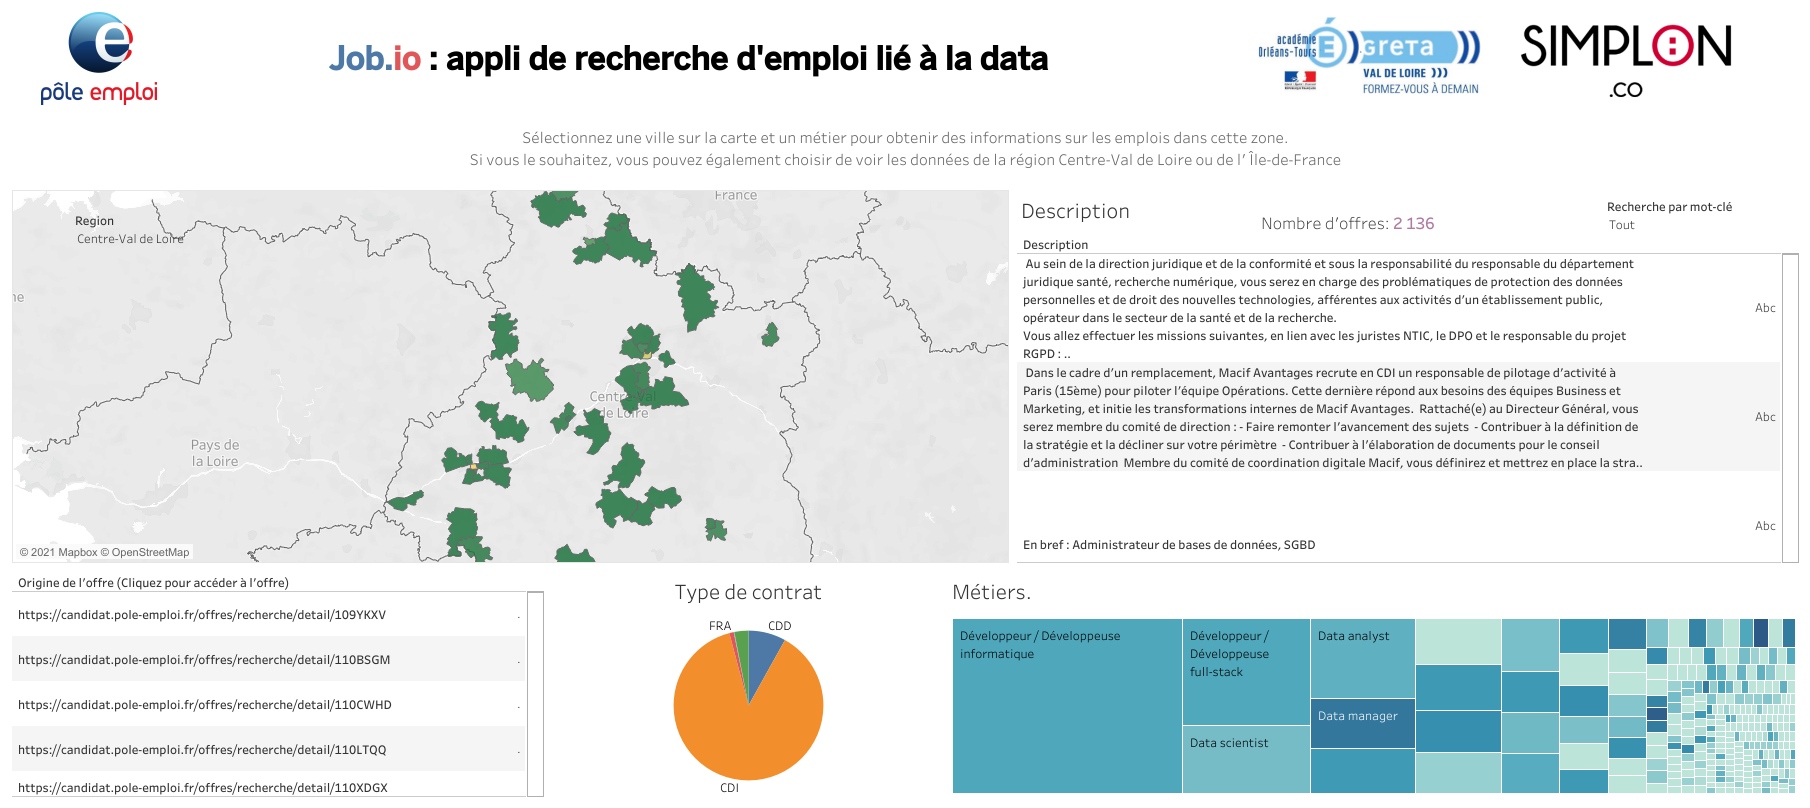

What the dashboard file says about the page in this screenshot:
{"tool":"tableau","page":{"name":"Job.io (3)","canvas":[1000,1000],"units":"permille","ordinal":2},"visuals":[{"type":"worksheet","box":[0,0,1000,1000]},{"type":"worksheet","param":"horz","box":[4.8,9.3,990.3,981.4]},{"type":"worksheet","param":"horz","box":[4.8,9.3,990.3,981.4]},{"type":"worksheet","box":[4.8,9.3,990.3,981.4]},{"type":"worksheet","param":"vert","box":[4.8,9.3,990.3,538.9]},{"type":"worksheet","param":"horz","box":[4.8,9.3,990.3,538.9]},{"type":"worksheet","box":[4.8,9.3,990.3,538.9]},{"type":"worksheet","param":"horz","box":[4.8,9.3,990.3,97.3]},{"type":"worksheet","param":"C:/Users/Greta/Downloads/1280px-Logo_Pôle_Emploi_2008.svg-1024x819.png","box":[4.8,9.3,109.8,97.3]},{"type":"worksheet","box":[114.7,9.3,601.7,97.3]},{"type":"worksheet","param":"C:/Users/Greta/Downloads/greta-partenaires-(1).png","box":[716.4,9.3,278.8,97.3]},{"type":"worksheet","box":[4.8,106.6,990.3,74.1]},{"type":"worksheet","title":"Map","mark":"Multipolygon","box":[4.8,180.7,495.2,367.4]},{"type":"worksheet","title":"Feuille 4","mark":"Automatic","rows":["salaireannuel2"],"cols":["departement"],"box":[500,180.7,495.2,367.4]},{"type":"worksheet","title":"Map","mark":"Multipolygon","param":"[federated.0hgf61x1773akb13cs63w0l2kylb].[attr:region:nk]","box":[41.5,260,81.9,65.3]},{"type":"worksheet","title":"Nombre d'offres","mark":"Automatic","box":[694,261.3,146.1,43]},{"type":"worksheet","title":"Origine de l'offre","mark":"Automatic","rows":["origineoffre_urlorigine"],"box":[4.8,548.2,328.3,442.5]},{"type":"worksheet","title":"Métiers.","mark":"Automatic","box":[333.1,548.2,662.1,442.5]}]}

Visuals, with their boxes on the dashboard's canvas, which has no fixed pixel size, in thousandths of its width and height (x1, y1, x2, y2). These are canvas units, not pixel positions in the 1810x808 screenshot, which may show the page scaled, cropped or inside an application window:
worksheet: (left=0, top=0, right=1000, bottom=1000)
worksheet: (left=5, top=9, right=995, bottom=991)
worksheet: (left=5, top=9, right=995, bottom=991)
worksheet: (left=5, top=9, right=995, bottom=991)
worksheet: (left=5, top=9, right=995, bottom=548)
worksheet: (left=5, top=9, right=995, bottom=548)
worksheet: (left=5, top=9, right=995, bottom=548)
worksheet: (left=5, top=9, right=995, bottom=107)
worksheet: (left=5, top=9, right=115, bottom=107)
worksheet: (left=115, top=9, right=716, bottom=107)
worksheet: (left=716, top=9, right=995, bottom=107)
worksheet: (left=5, top=107, right=995, bottom=181)
"Map" worksheet (Multipolygon marks): (left=5, top=181, right=500, bottom=548)
"Feuille 4" worksheet: (left=500, top=181, right=995, bottom=548)
"Map" worksheet (Multipolygon marks): (left=42, top=260, right=123, bottom=325)
"Nombre d'offres" worksheet: (left=694, top=261, right=840, bottom=304)
"Origine de l'offre" worksheet: (left=5, top=548, right=333, bottom=991)
"Métiers." worksheet: (left=333, top=548, right=995, bottom=991)
